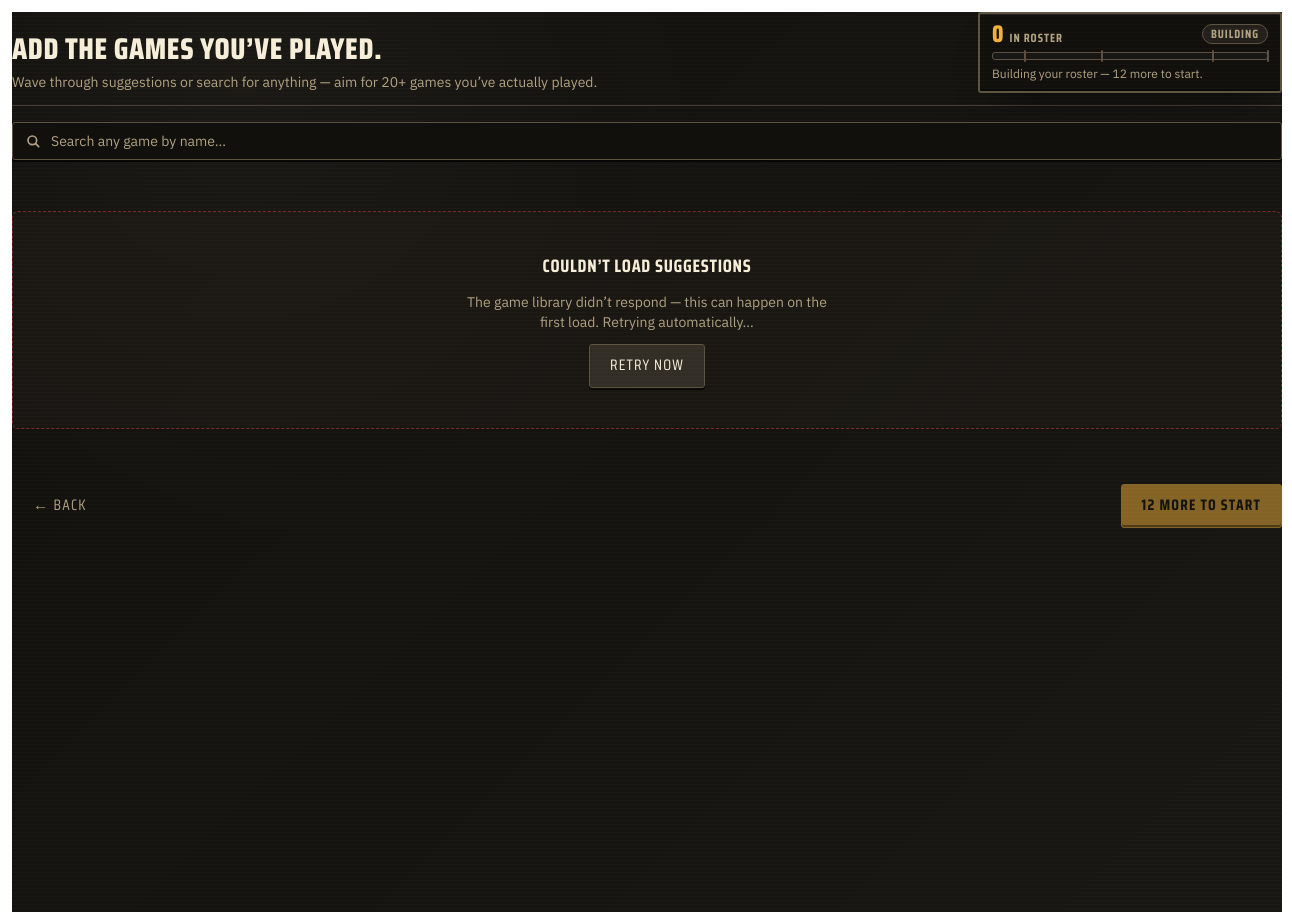
Test: PoolStep batches › shows a recoverable error when the first fetch fails
Click the button "Retry now": [647, 366] box [589,344,705,388]
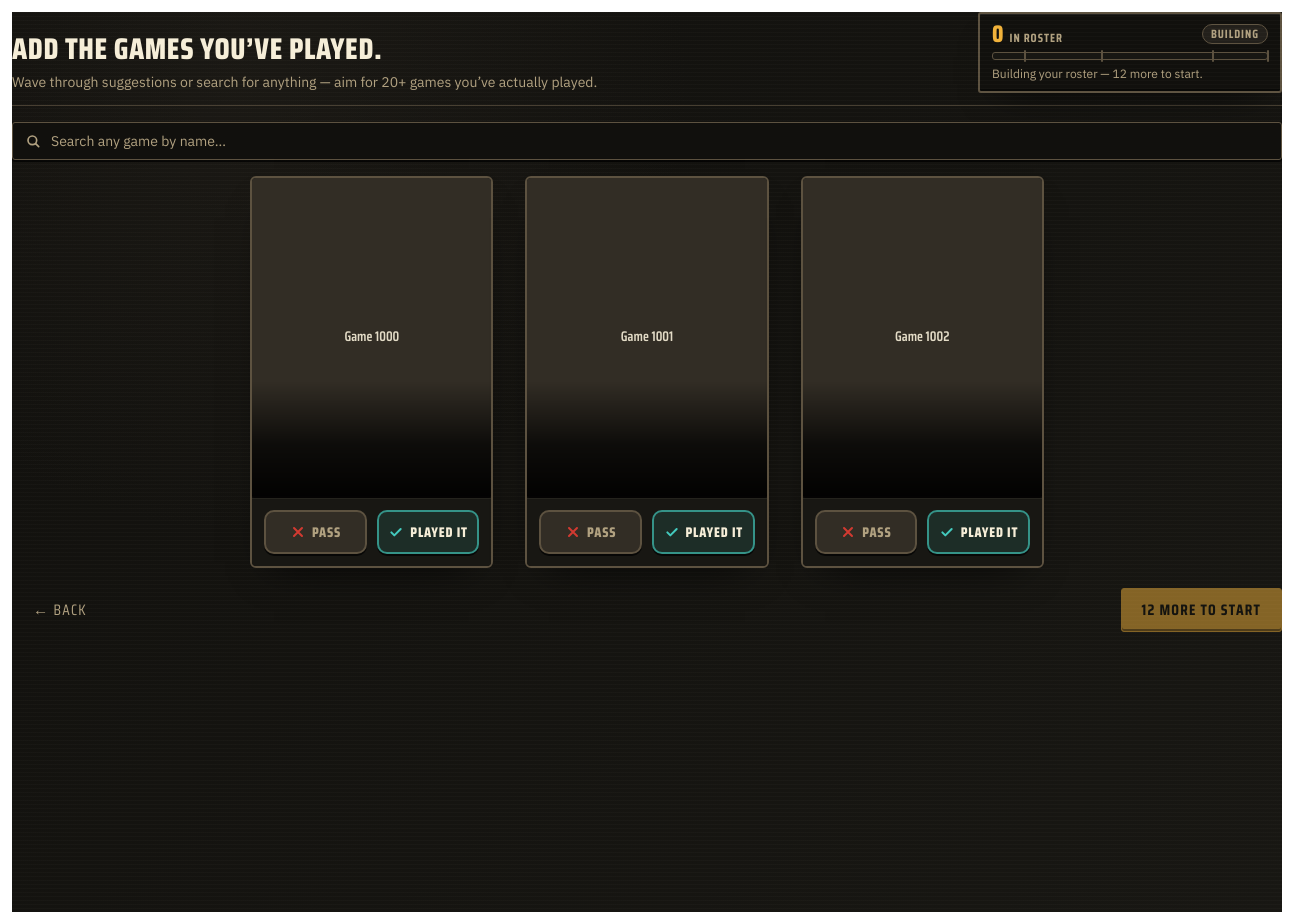
Now the number of buttons "Played it" is 3, box [377,510,479,554]; [652,510,755,554]; [927,510,1030,554]
